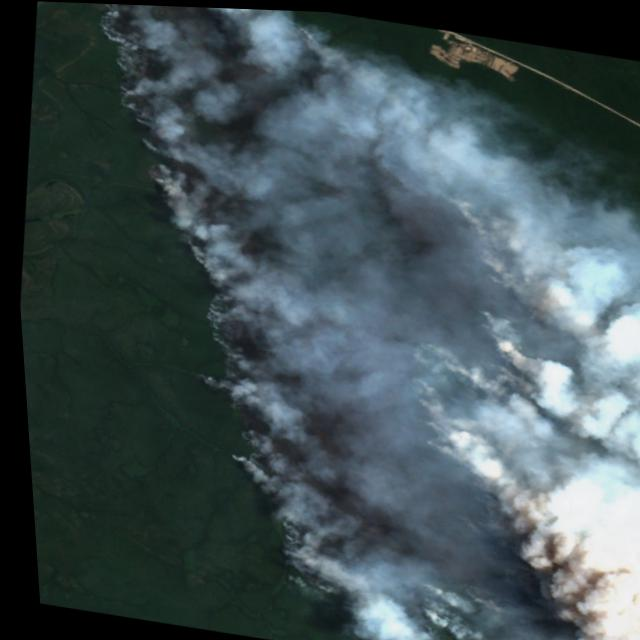fire: (13, 0, 413, 620), (387, 278, 558, 454), (396, 563, 483, 634), (435, 170, 509, 241)
